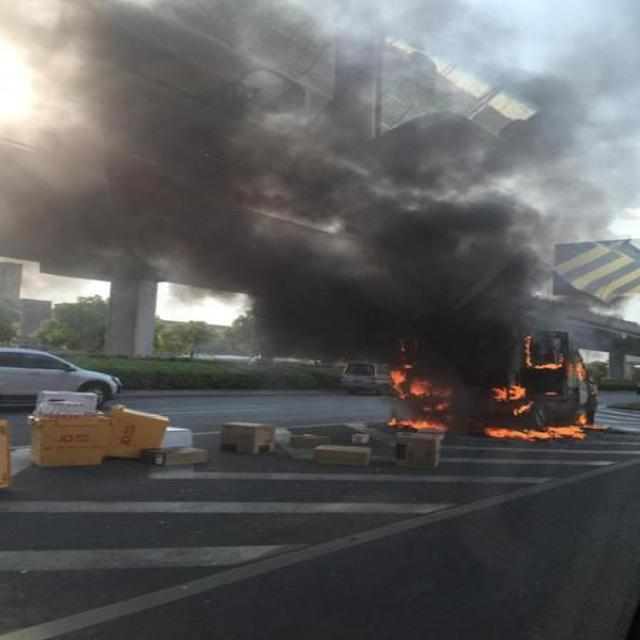Fire: (389, 367, 450, 431), (483, 427, 586, 443), (492, 385, 530, 413)
Smoke: (0, 0, 536, 381)
